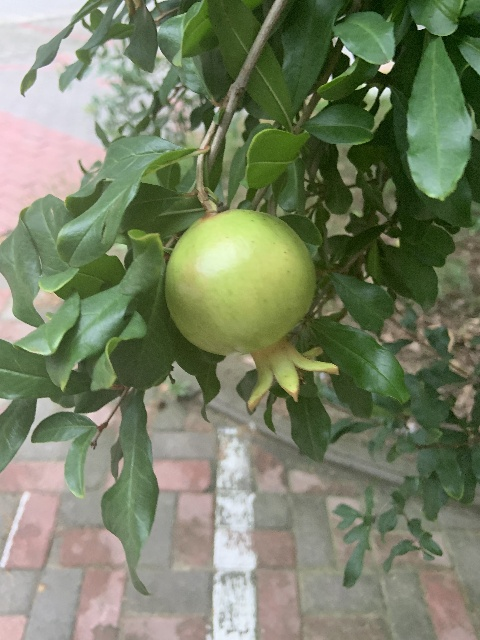mid-growth: (163, 209, 338, 412)
